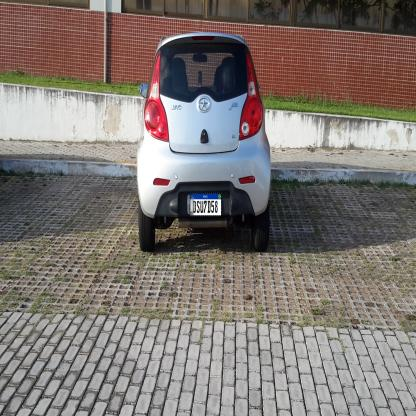PlacaM: (190, 192, 222, 216)
